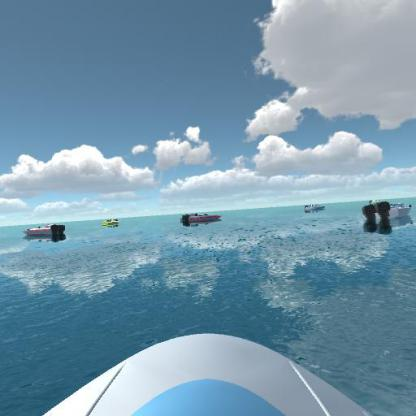usv0: (368, 196, 392, 206)
usv1: (360, 201, 414, 230), (301, 199, 327, 217), (100, 214, 121, 231)
usv3: (21, 219, 70, 243), (176, 208, 224, 228)
